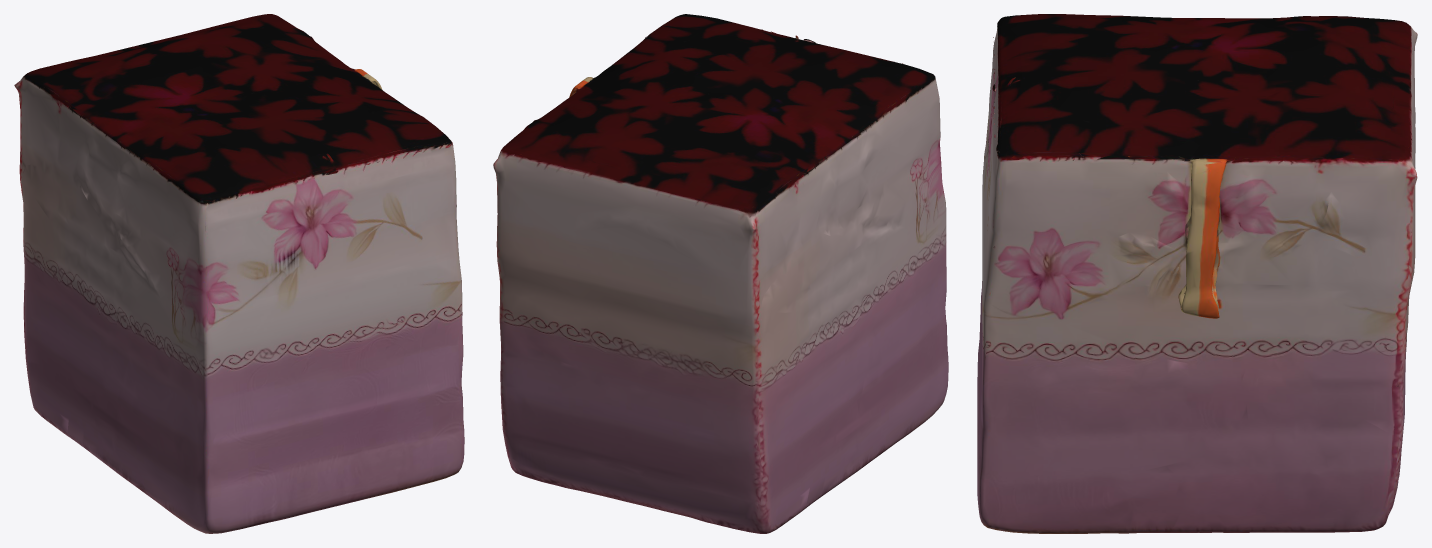
The model's file is dundun2.glb.
The picture shows the model from 3 angles, left to right: view 1: azimuth 30°, elevation 25°; view 2: azimuth 150°, elevation 25°; view 3: azimuth 270°, elevation 25°; orthographic projection. The views are drawn at different scales.
Parts seen in each view (by area): view 1: tripo_node_c53a4957; view 2: tripo_node_c53a4957; view 3: tripo_node_c53a4957.
Boxes of the visible parts, box(x1,y1,x2,y2) form: tripo_node_c53a4957: box(14, 14, 464, 533); tripo_node_c53a4957: box(493, 14, 948, 533); tripo_node_c53a4957: box(977, 14, 1417, 533).
Bounding box in the file's own units: 0.8438 × 0.9996 × 0.9959.
Materials: 1 (1 with a texture image).
